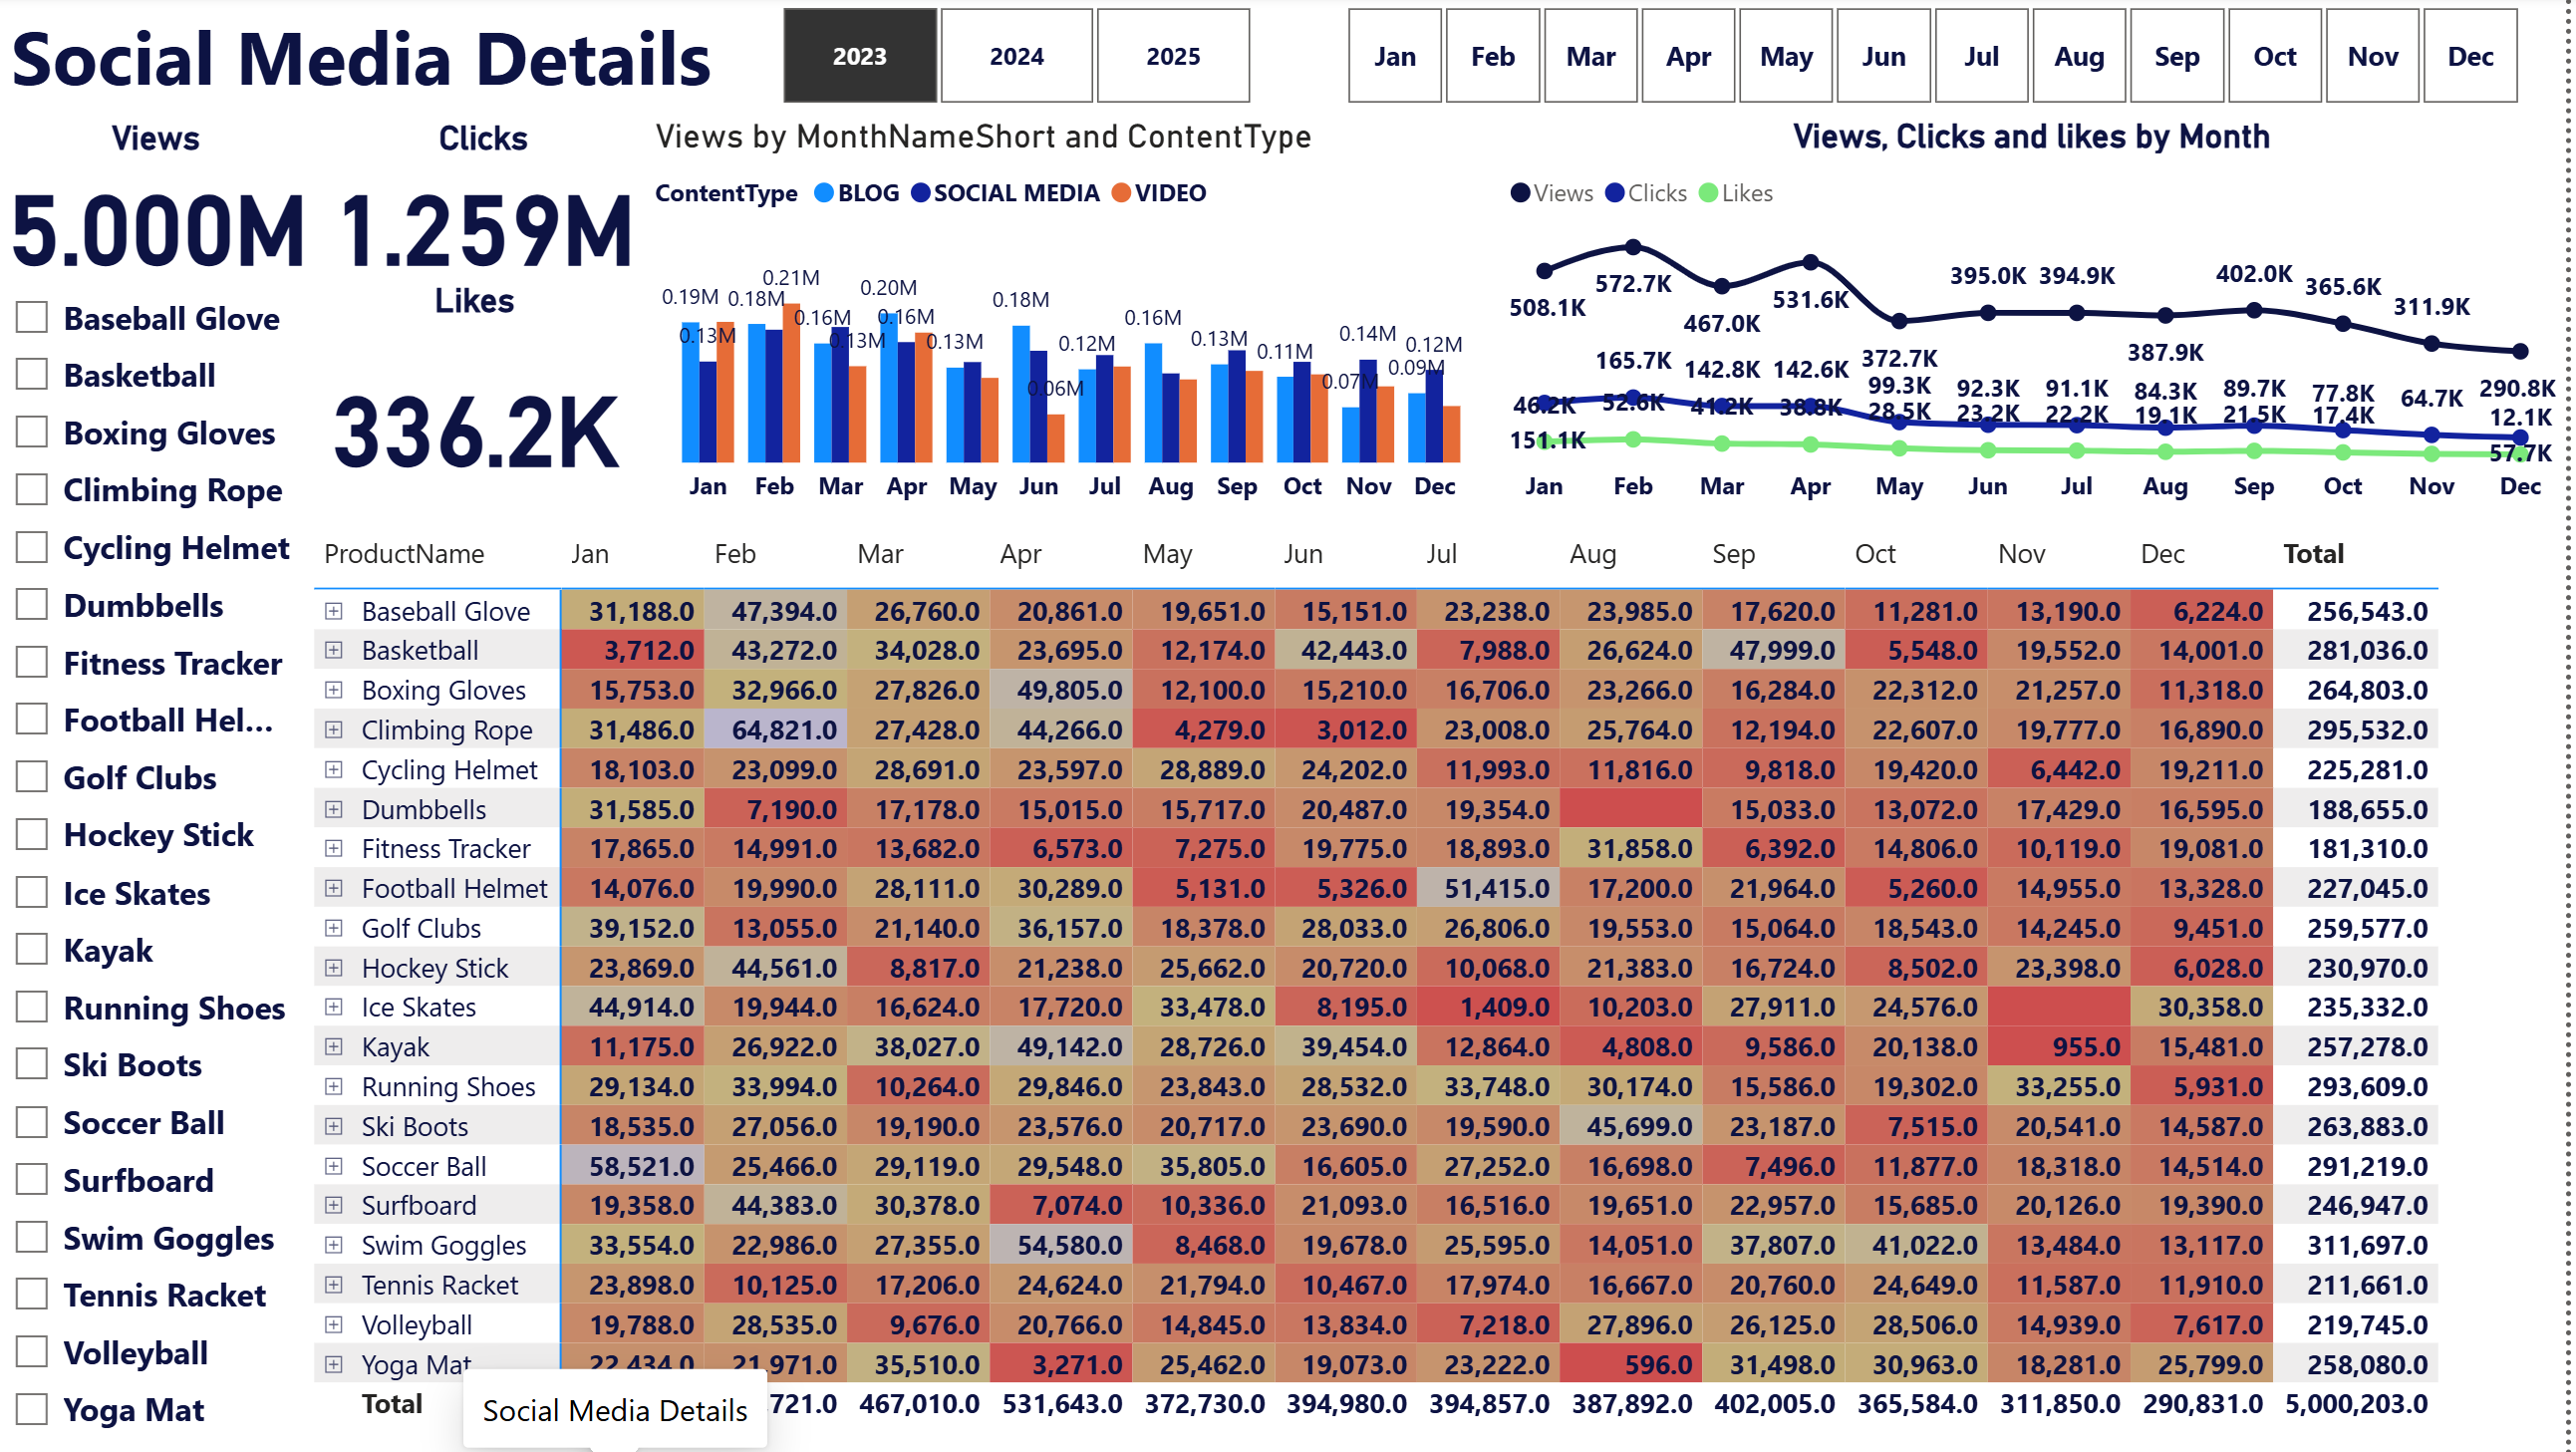

This screenshot's page, from the dashboard's own definition file:
{"tool":"powerbi","page":{"name":"Social Media Details","canvas":[1300,740],"ordinal":2},"visuals":[{"type":"card","title":"Views","fields":{"Values":["Calculations.Views"]},"box":[0,63.2,167.4,81.8],"z":0},{"type":"card","title":"Clicks","fields":{"Values":["Calculations.Clicks"]},"box":[167.4,63.2,163.7,81.8],"z":1000},{"type":"card","title":"Likes","fields":{"Values":["Calculations.Likes"]},"box":[158.7,145.1,172.4,121.5],"z":2000},{"type":"slicer","fields":{"Values":["Dim_Products.ProductName"]},"box":[0,143.8,158.7,596.4],"z":3000},{"type":"textbox","box":[0,0,374.5,62],"z":4000},{"type":"slicer","fields":{"Values":["Calendar.Year"]},"box":[374.5,0,285.2,62],"z":5000},{"type":"slicer","fields":{"Values":["Calendar.MonthNameShort"]},"box":[659.7,0,639.8,62],"z":6000},{"type":"lineChart","title":"Views, Clicks and likes by Month","fields":{"Category":["Calendar.MonthNameShort"],"Y":["Calculations.Views","Calculations.Clicks","Calculations.Likes"]},"box":[761.3,62,538.1,204.6],"z":7000},{"type":"clusteredColumnChart","fields":{"Category":["Calendar.MonthNameShort"],"Y":["Calculations.Views"],"Series":["Fact_EngagementData.ContentType"]},"box":[331.1,62,430.3,204.6],"z":8000},{"type":"pivotTable","fields":{"Rows":["Dim_Products.ProductName","Fact_EngagementData.ContentType"],"Columns":["Calendar.MonthNameShort"],"Values":["Calculations.Views"]},"box":[158.7,266.6,1140.8,473.7],"z":9000}]}

Visuals, with their boxes in screenshot pixels (x1, y1, x2, y2), scaled from the page's 1300x740 canvas onto the 2576x1452 screenshot:
"Views" card: select_region(0, 124, 332, 284)
"Clicks" card: select_region(332, 124, 656, 284)
"Likes" card: select_region(315, 285, 656, 523)
slicer - Dim_Products.ProductName: select_region(0, 282, 315, 1451)
textbox: select_region(0, 0, 742, 122)
slicer - Calendar.Year: select_region(742, 0, 1307, 122)
slicer - Calendar.MonthNameShort: select_region(1307, 0, 2575, 122)
"Views, Clicks and likes by Month" lineChart: select_region(1509, 122, 2575, 523)
clusteredColumnChart - Calendar.MonthNameShort x Calculations.Views: select_region(656, 122, 1509, 523)
pivotTable - Dim_Products.ProductName x Fact_EngagementData.ContentType: select_region(315, 523, 2575, 1451)
